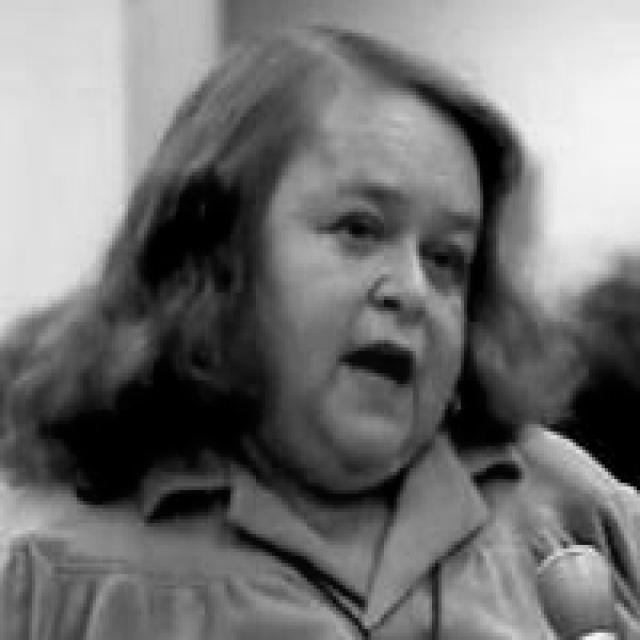real: (270, 162, 482, 476)
